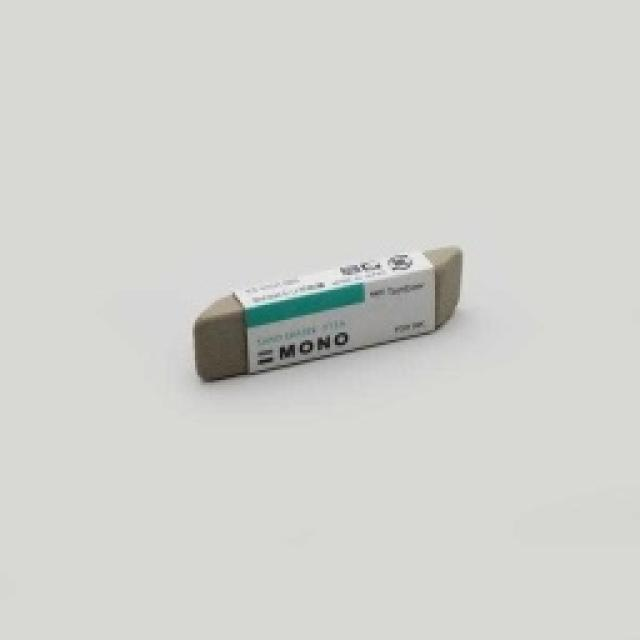Silgi: (193, 245, 467, 385)
